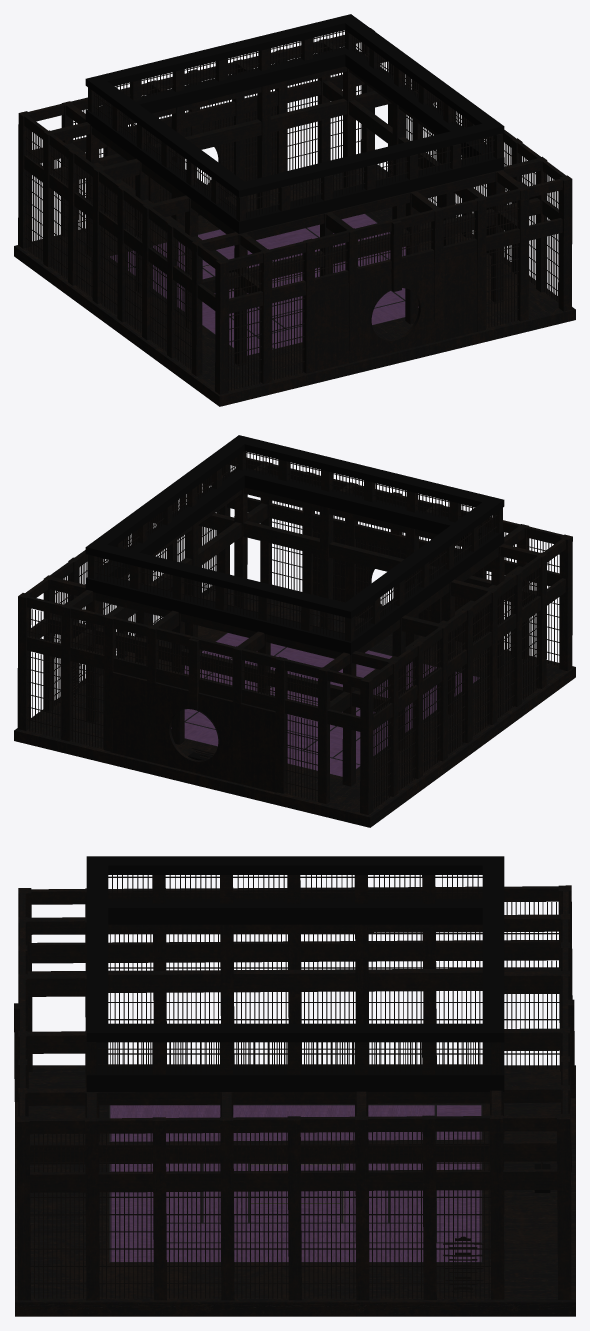
File: uploads_files_3440008_Tatami_Combat_Training_GLTF.glb
3 renders of one model, top to bottom at view 1: azimuth 30°, elevation 25°; view 2: azimuth 150°, elevation 25°; view 3: azimuth 270°, elevation 25°, orthographic. The views are drawn at different scales.
Parts seen in each view (by area): view 1: Columns, Capitel ceil, Columns_fill_vertical, Floor, Wood_windows, Columns_fill_vertical1, Columns_fill_horizontal, Columns_fill_horizontal1, Tatami.006, Tatami.007, Tatami.001, Tatami.004 (+1 smaller); view 2: Columns, Capitel ceil, Columns_fill_vertical, Floor, Wood_windows, Columns_fill_vertical1, Columns_fill_horizontal, Columns_fill_horizontal1, Tatami.005, Tatami.006, Tatami.004, Tatami.001 (+2 smaller); view 3: Columns, Capitel ceil, Floor, Columns_fill_vertical, Columns_fill_horizontal, Columns_fill_vertical1, Tatami.008, Tatami.003, Tatami.006, Tatami.007, Tatami.005, Columns_fill_horizontal1 (+9 smaller).
Boxes of the visible parts, box(x1,y1,x2,y2) form: Columns: box(18, 28, 572, 394); Capitel ceil: box(85, 14, 504, 233); Columns_fill_vertical: box(26, 42, 558, 390); Floor: box(14, 164, 575, 406); Wood_windows: box(116, 106, 477, 371); Columns_fill_vertical1: box(94, 30, 493, 217); Columns_fill_horizontal: box(25, 52, 558, 380); Columns_fill_horizontal1: box(93, 30, 494, 212); Tatami.006: box(128, 265, 273, 355); Tatami.007: box(258, 301, 418, 348); Tatami.001: box(184, 228, 318, 266); Tatami.004: box(272, 290, 404, 329); Columns: box(17, 451, 572, 814); Capitel ceil: box(85, 435, 504, 654); Columns_fill_vertical: box(29, 483, 557, 809); Floor: box(14, 585, 575, 827); Wood_windows: box(110, 528, 473, 792); Columns_fill_vertical1: box(97, 451, 495, 638); Columns_fill_horizontal: box(27, 484, 559, 798); Columns_fill_horizontal1: box(95, 451, 497, 633); Tatami.005: box(171, 722, 360, 776); Tatami.006: box(333, 671, 481, 764); Tatami.004: box(274, 647, 387, 687); Tatami.001: box(185, 711, 317, 750); Columns: box(14, 875, 574, 1300); Capitel ceil: box(86, 856, 504, 1091); Floor: box(15, 1065, 575, 1316); Columns_fill_vertical: box(34, 902, 556, 1298); Columns_fill_horizontal: box(30, 933, 559, 1283); Columns_fill_vertical1: box(102, 875, 488, 1073); Tatami.008: box(166, 1242, 482, 1262); Tatami.003: box(166, 1223, 423, 1242); Tatami.006: box(109, 1104, 435, 1118); Tatami.007: box(109, 1133, 153, 1262); Tatami.005: box(435, 1104, 482, 1242); Columns_fill_horizontal1: box(98, 876, 491, 1065).
Size of the model in its own units: 14.07 by 7.01 by 14.09.
4 materials, 3 textured.
